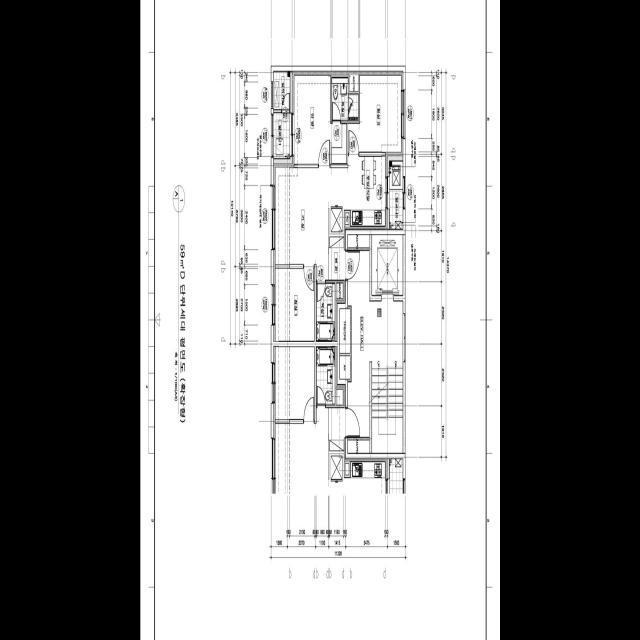background: (140, 0, 500, 640)
space_balconi: (389, 156, 402, 229), (273, 114, 289, 158)
space_bedroom: (348, 72, 403, 156), (292, 72, 330, 164), (273, 268, 314, 342)
space_dressroom: (331, 124, 346, 164)
space_elevator: (372, 235, 402, 295)
space_elevator_hall: (347, 251, 402, 437)
space_front: (328, 237, 345, 280)
space_kitchen: (348, 156, 387, 229)
space_living_room: (273, 164, 348, 280)
space_other: (339, 309, 350, 353), (347, 440, 369, 453), (347, 235, 369, 247), (339, 356, 350, 379), (349, 72, 358, 91), (336, 283, 343, 298), (345, 213, 349, 224)
space_outdoor_room: (273, 72, 290, 110)
space_staircase: (372, 362, 402, 453)
space_toilet: (331, 77, 358, 120), (316, 284, 335, 342)
